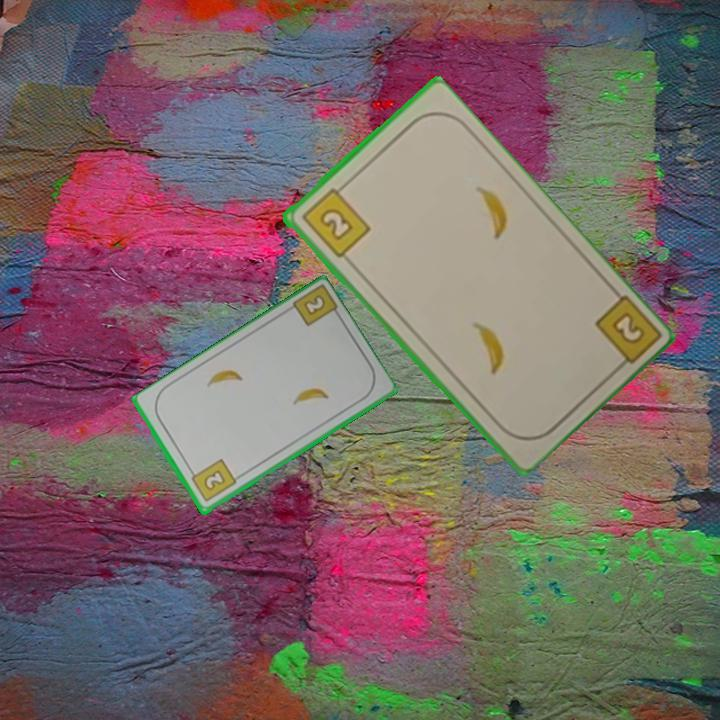2b: (297, 180, 373, 261), (590, 291, 661, 376), (186, 456, 239, 505), (300, 291, 328, 319)
